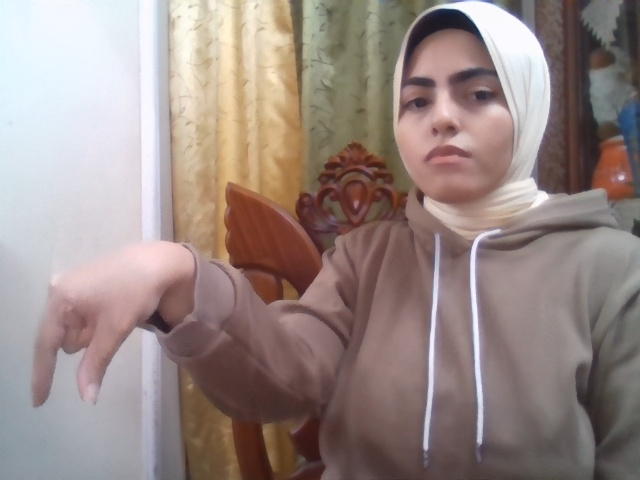Q: (28, 240, 173, 407)
